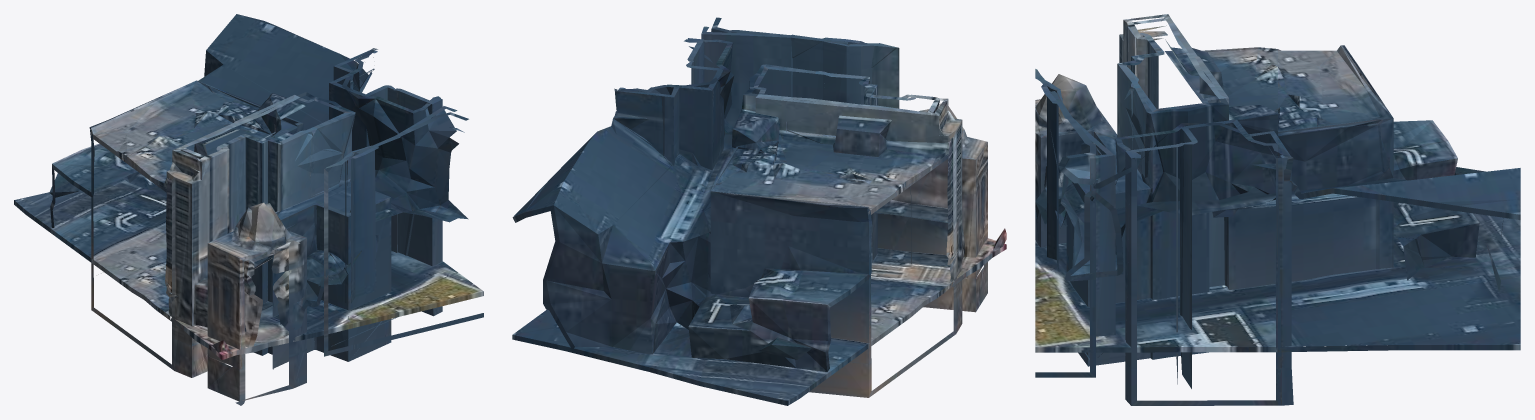
File: chunk_1_5.glb
The picture shows the model from 3 angles, left to right: view 1: azimuth 30°, elevation 25°; view 2: azimuth 150°, elevation 25°; view 3: azimuth 270°, elevation 25°; orthographic projection. The views are drawn at different scales.
Visible parts, largest first — view 1: hero-chunk; view 2: hero-chunk; view 3: hero-chunk.
Part boxes in pixels (bbox=[...]): hero-chunk: bbox=[14, 14, 483, 405]; hero-chunk: bbox=[512, 17, 1006, 405]; hero-chunk: bbox=[1035, 14, 1520, 405].
Size of the model in its own units: 56.04 by 44.28 by 76.32.
2 materials, 2 textured.
